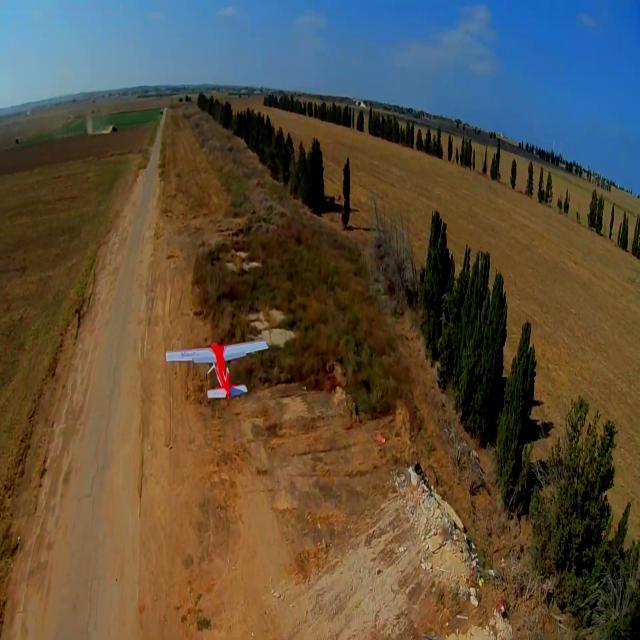iha: (193, 368, 240, 371)
